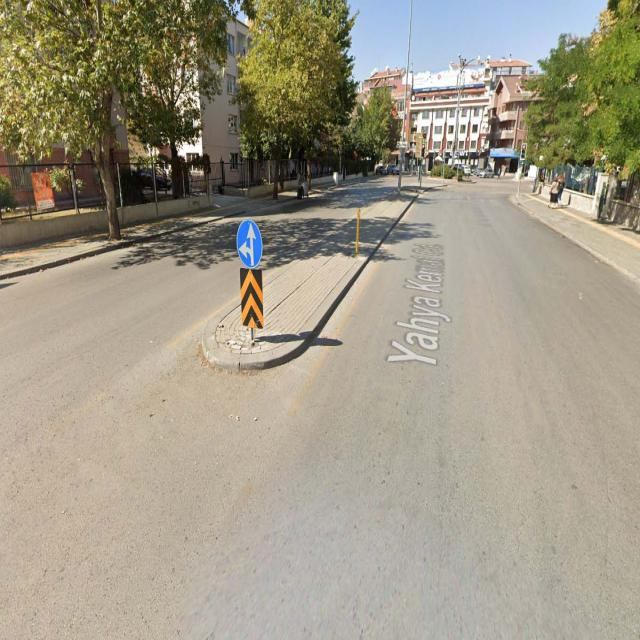ilerisol: (236, 220, 263, 268)
